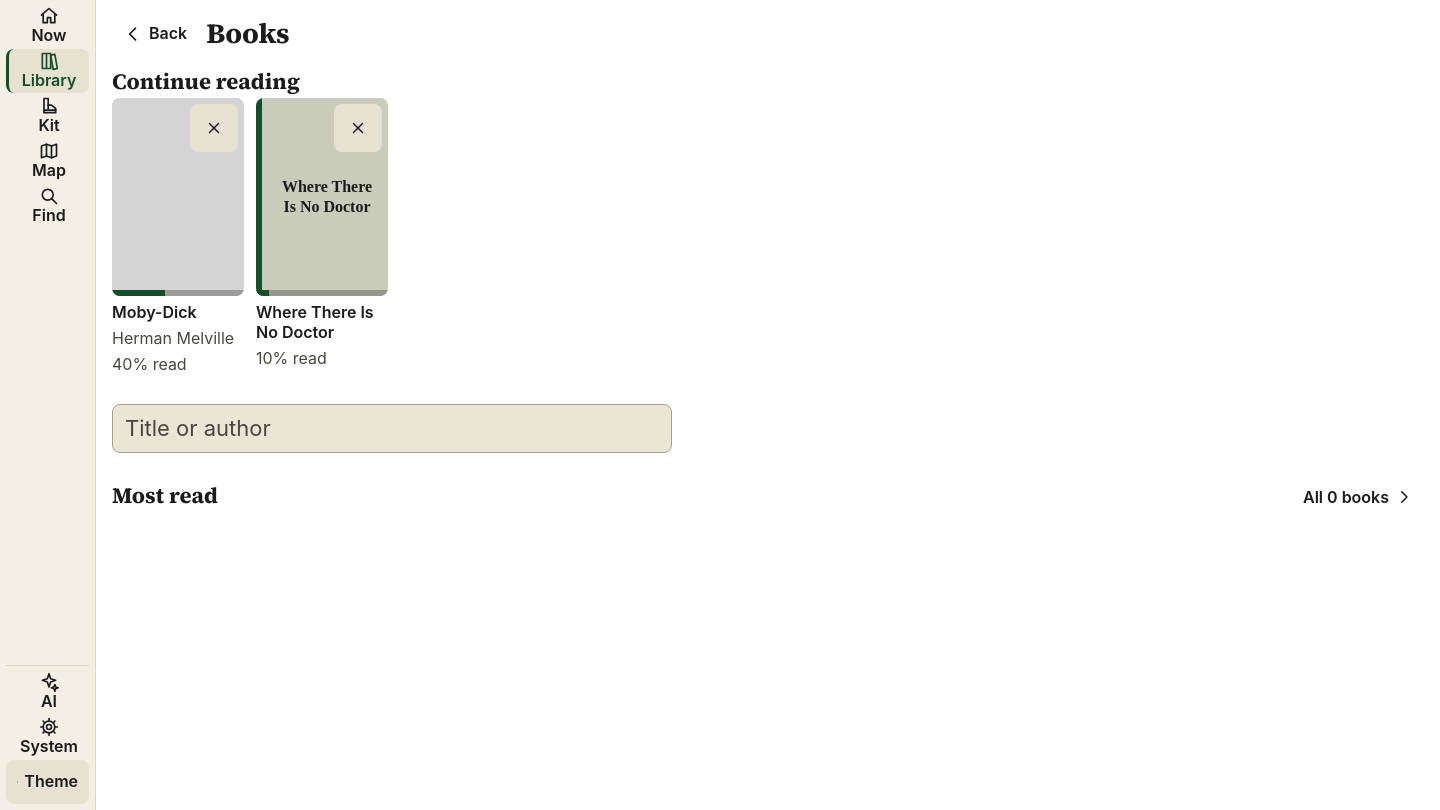
Test: Books › puts the books you are reading first, newest first, as covers with how far you are, and forgets one on request
Expected: the element with class "book-spine" reads "Where There Is No Doctor", [282,178,372,215]
Click the button named "Forget Moby-Dick".
click(214, 128)  # box [190,104,238,152]
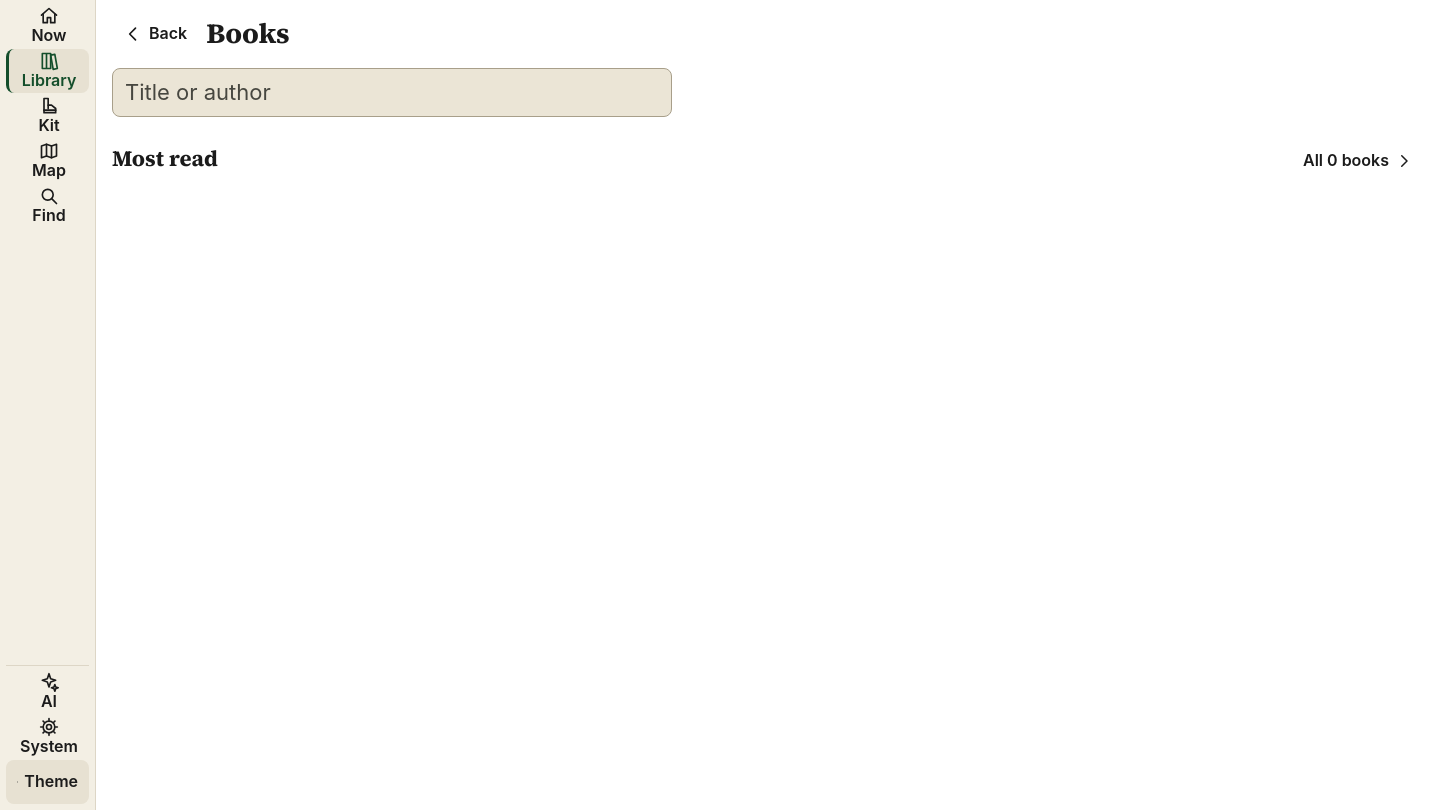
Result: the heading "Continue reading" is gone
